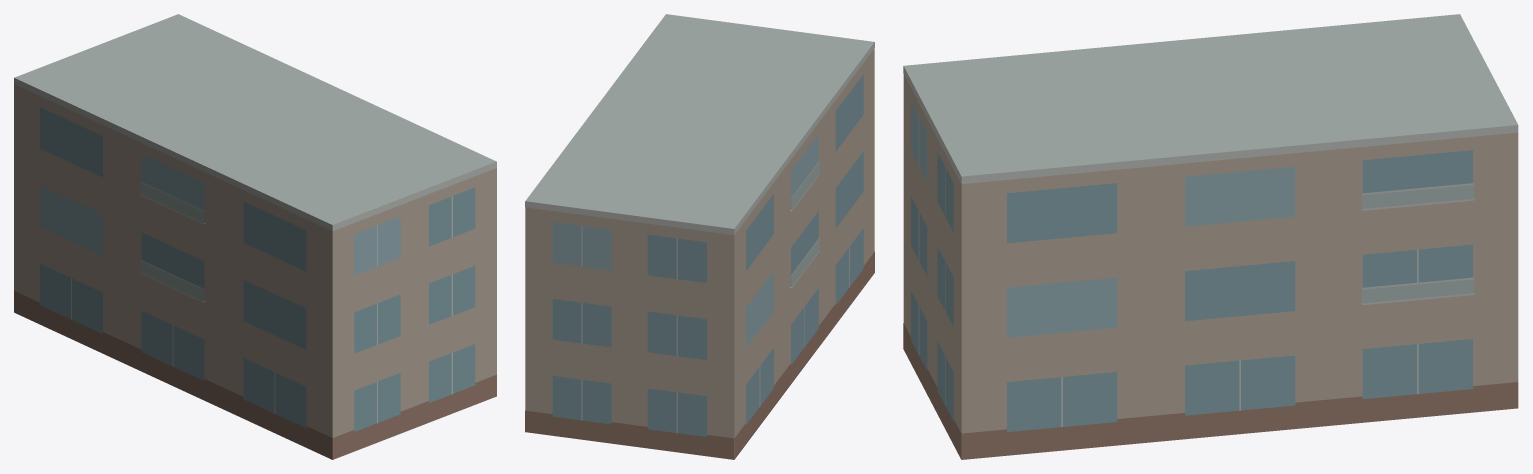
File: survey-upis-32709179.glb
3 renders of one model, left to right at view 1: azimuth 30°, elevation 25°; view 2: azimuth 150°, elevation 25°; view 3: azimuth 270°, elevation 25°, orthographic. The views are drawn at different scales.
Parts seen in each view (by area): view 1: survey-upis-32709179.tmp; view 2: survey-upis-32709179.tmp; view 3: survey-upis-32709179.tmp.
Part boxes in pixels (box(x1,y1,x2,y2)): survey-upis-32709179.tmp: box(14, 14, 496, 459); survey-upis-32709179.tmp: box(525, 14, 874, 459); survey-upis-32709179.tmp: box(903, 14, 1518, 459).
Size of the model in its own units: 11.27 by 9.15 by 18.01.
